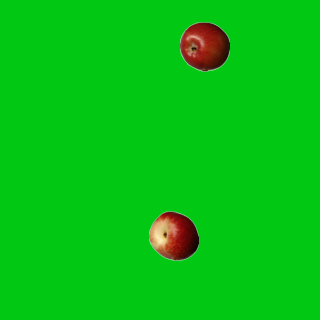Apple Braeburn: (179, 21, 229, 71)
Nectarine: (148, 210, 198, 260)
